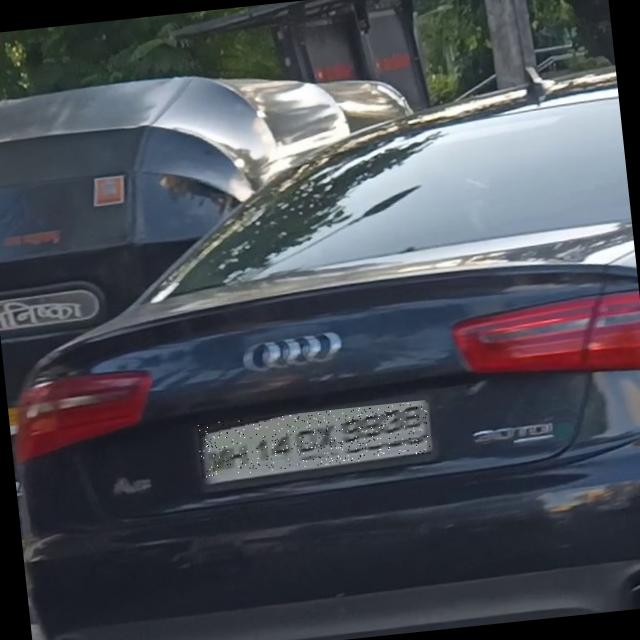Plate: (198, 401, 432, 479)
